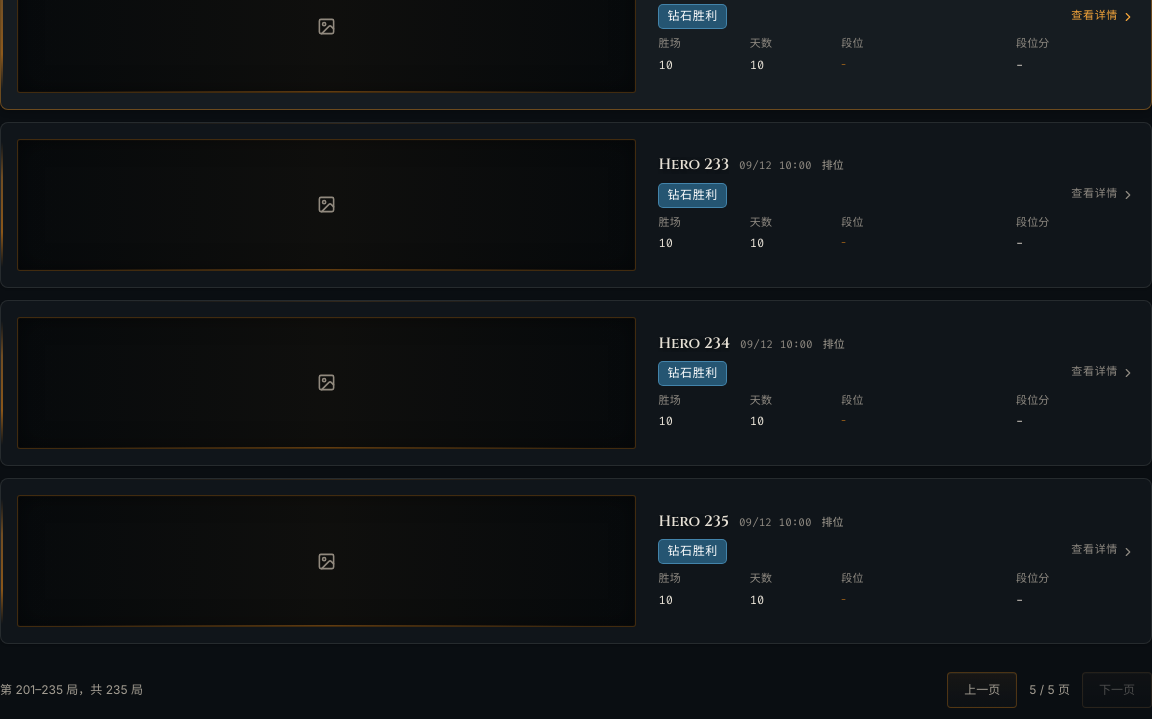
Test: history pagination › reaches records beyond 200 and keeps summary totals independent of the page
expect the button "下一页" is disabled: met, box [1082,672,1151,708]
Step 1. Click the button "上一页" → (982, 690), box [947,672,1017,708]
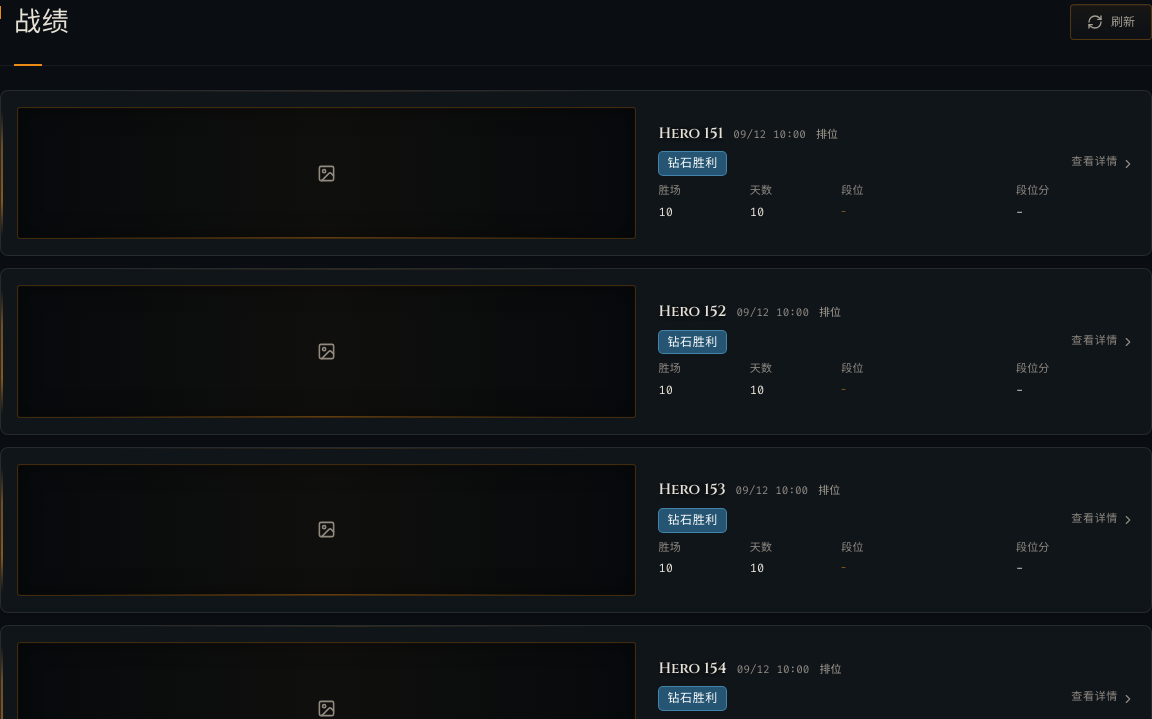
expect the number of links with class "bpp-history-run-card" is 50: met
